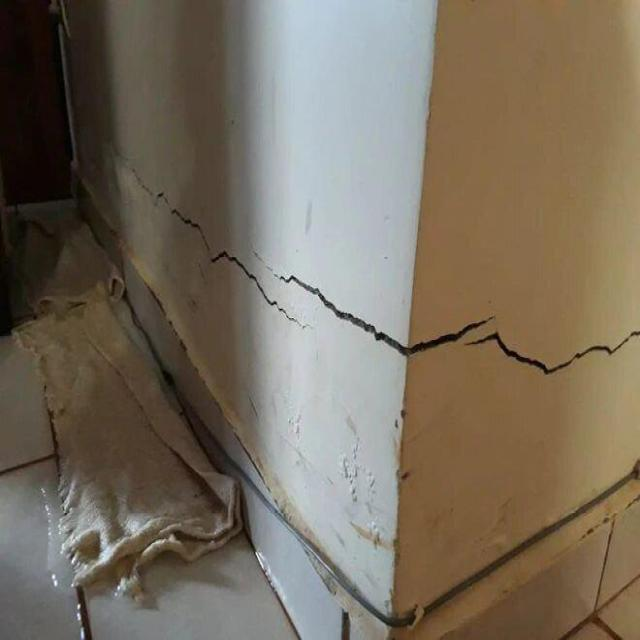crack: (252, 241, 495, 359), (209, 247, 316, 333), (468, 329, 639, 375), (162, 189, 212, 251)
